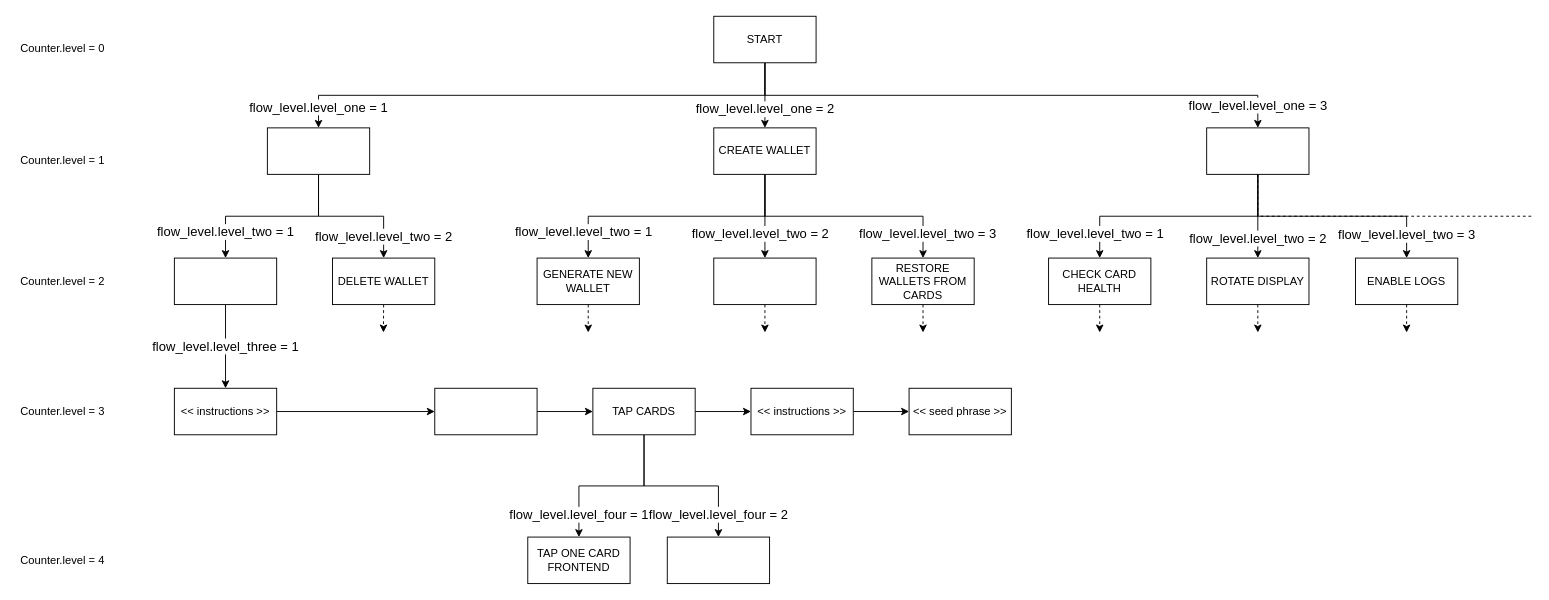
This 1549x600 diagram has some shape labels left out. The centre of each missing label's shape, as x and y in pixels:
"ENTER PIN" belongs at point (485, 411).
"RESTORE FROM SEED" belongs at point (764, 281).
"SETTINGS" belongs at point (1257, 150).
"TAP ONE CARD BACKEND" belongs at point (718, 560).
"VIEW SEED" belongs at point (225, 281).
"WALLET 1" belongs at point (318, 150).
